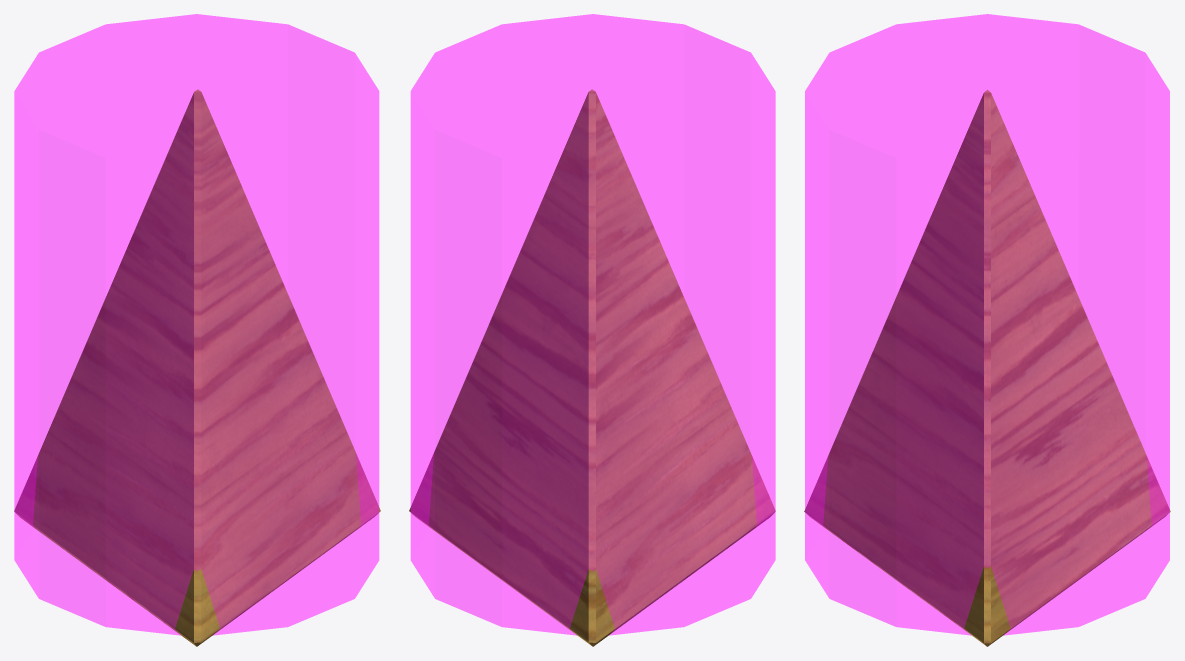
File: tumiki_E.fbx
The picture shows the model from 3 angles, left to right: view 1: azimuth 30°, elevation 25°; view 2: azimuth 150°, elevation 25°; view 3: azimuth 270°, elevation 25°; orthographic projection.
Parts seen in each view (by area): view 1: boundingbox, tumiki_E; view 2: boundingbox, tumiki_E; view 3: boundingbox, tumiki_E.
Boxes of the visible parts, <box> form: boundingbox: <box>14,14,379,635</box>; tumiki_E: <box>14,89,380,646</box>; boundingbox: <box>410,14,775,635</box>; tumiki_E: <box>409,89,775,646</box>; boundingbox: <box>805,14,1169,635</box>; tumiki_E: <box>804,90,1170,646</box>.
Bounding box in the file's own units: 2.58 × 3.41 × 2.41.
Materials: 2 (1 with a texture image).
